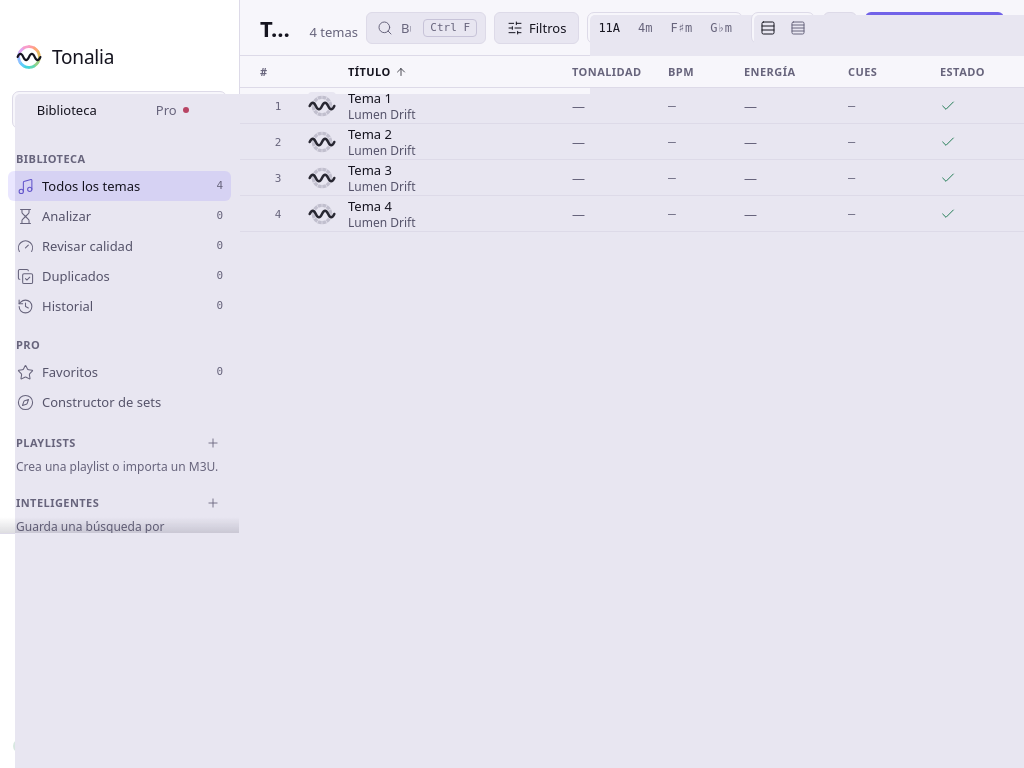
Scenario: global shortcuts › lists every shortcut with ? and closes with Escape
The width and height of the screenshot is (1024, 768).
Expected: the text "4 temas" is shown, [310,22,358,42]
Type keys "?"
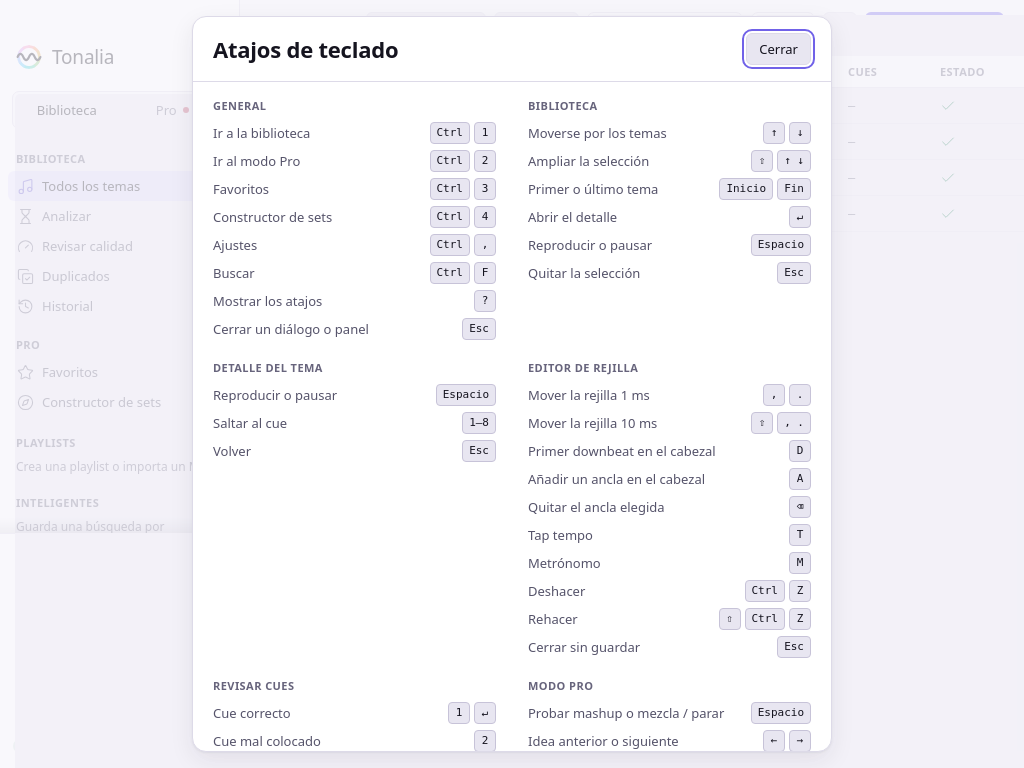
Expected: the heading "General" is shown, [213,98,266,113]
Expected: the heading "Biblioteca" is shown, [528,98,598,113]
Expected: the heading "Detalle del tema" is shown, [213,360,323,375]
Press Escape
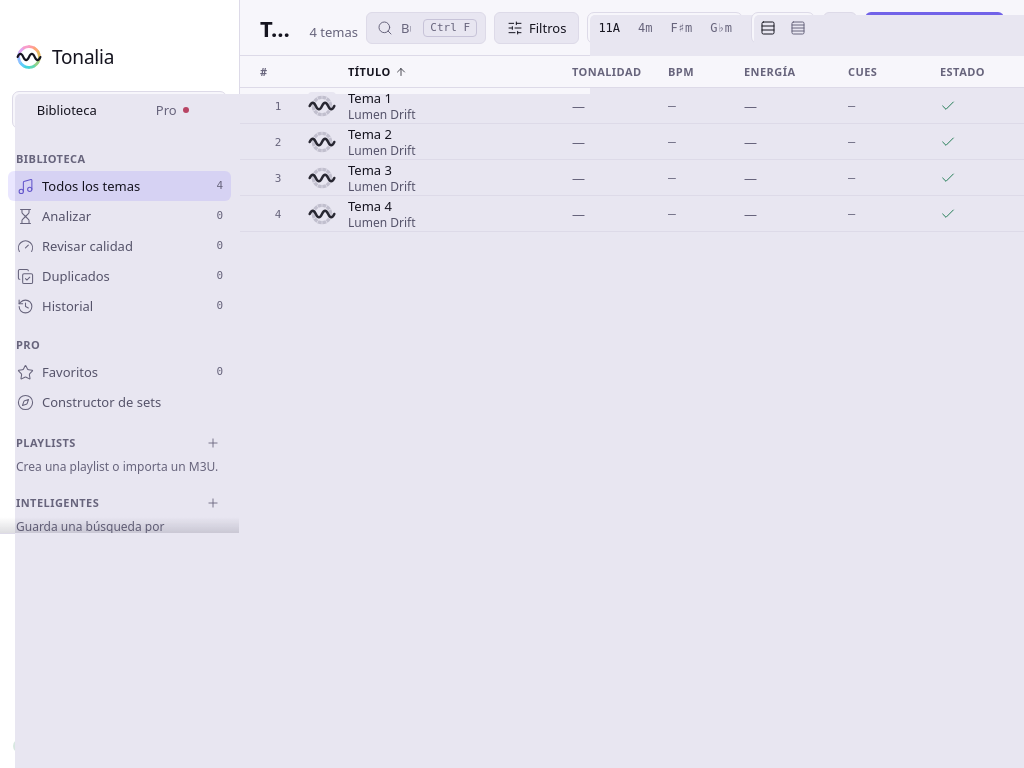
Expected: the dialog is gone
Note: Also from the sidebar.
Click the button "Atajos de teclado ?": (120, 675) [12,660,227,690]
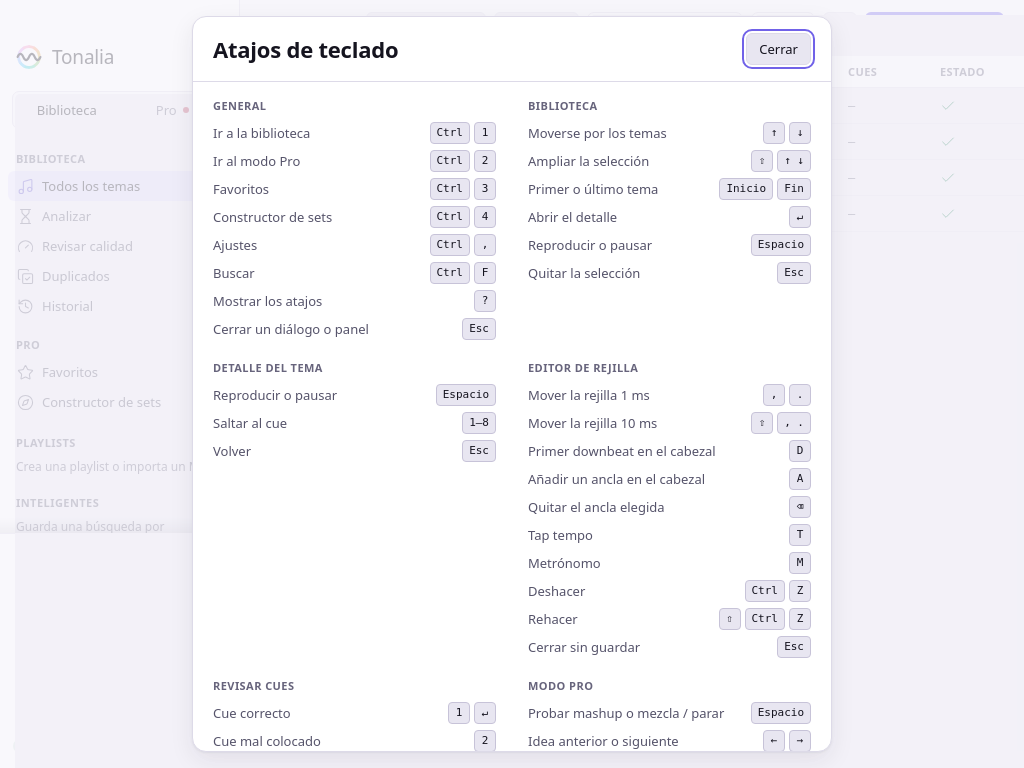
Expected: the dialog "Atajos de teclado" is shown, [192,16,832,752]
